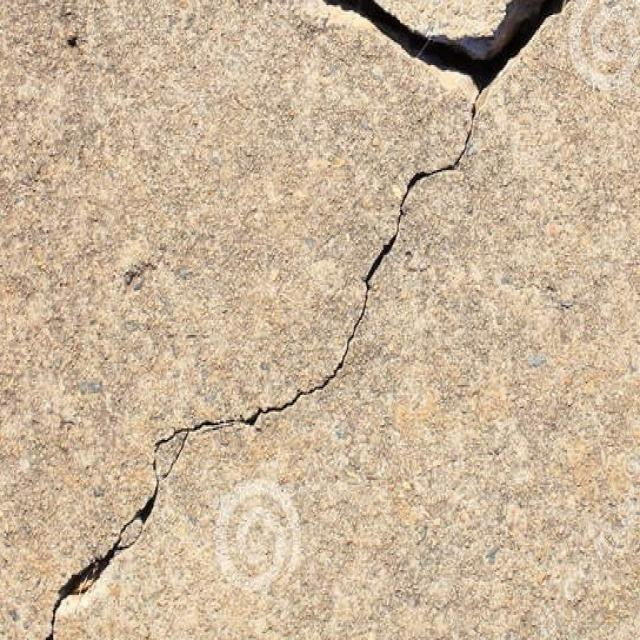Diagonal: (249, 216, 420, 445)
Longitudinal: (34, 602, 73, 640)
Network: (311, 0, 595, 209)
Turtle-shell patterned: (43, 500, 181, 594), (120, 417, 230, 499)
